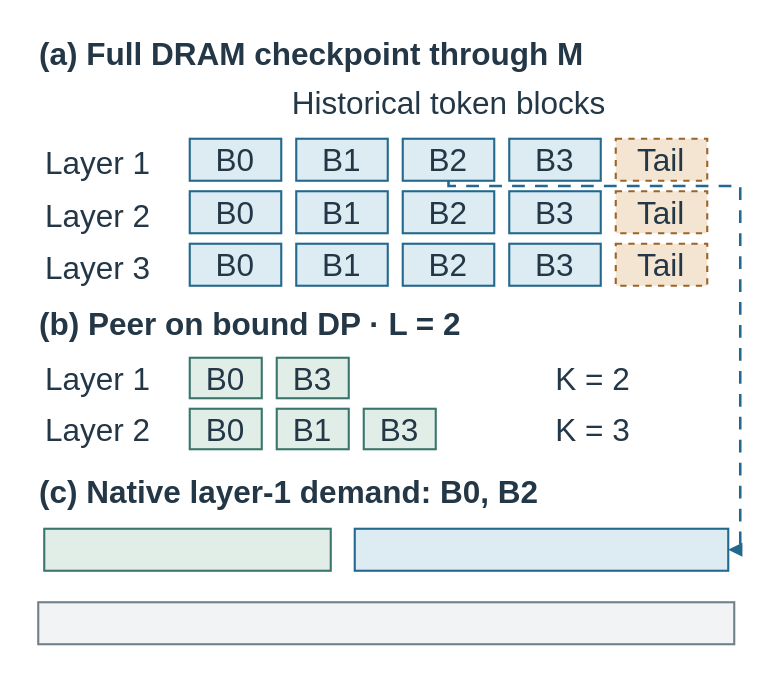
The diagram is 777 pixels wide and 681 high, and some of its shapes have lost their labels. Here are the shapes that lost their labels. From the top down, the box of each, then its label:
(42, 527, 331, 571): B0: Peer hit
(353, 527, 729, 571): B2: backing → H2D
(36, 600, 735, 645): Manifest: all layers + selector state
